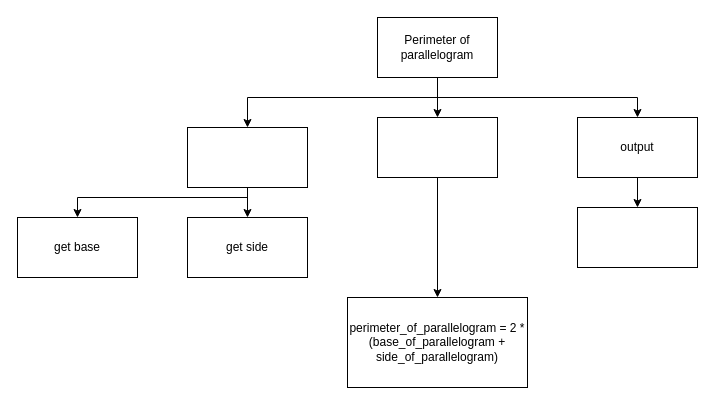
Image size: 715x405. Some labels were removed from this diagram. Here are the shapes that lost their labels. From the top down, the centre of each, then its label:
the point at 247,157: input
the point at 437,147: process
the point at 637,237: show perimeter
